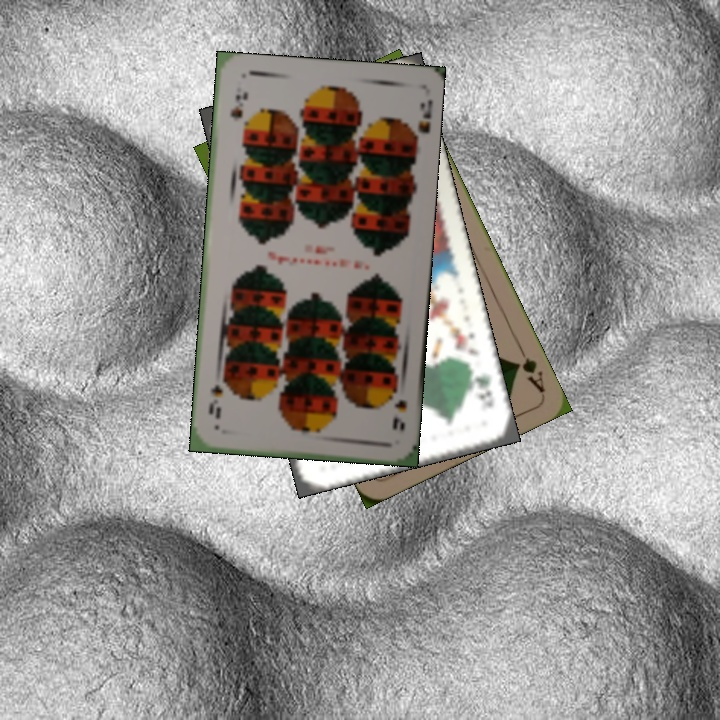GA: (510, 340, 548, 396)
GK: (465, 365, 497, 413)
S9: (386, 380, 409, 434), (227, 88, 248, 122)
